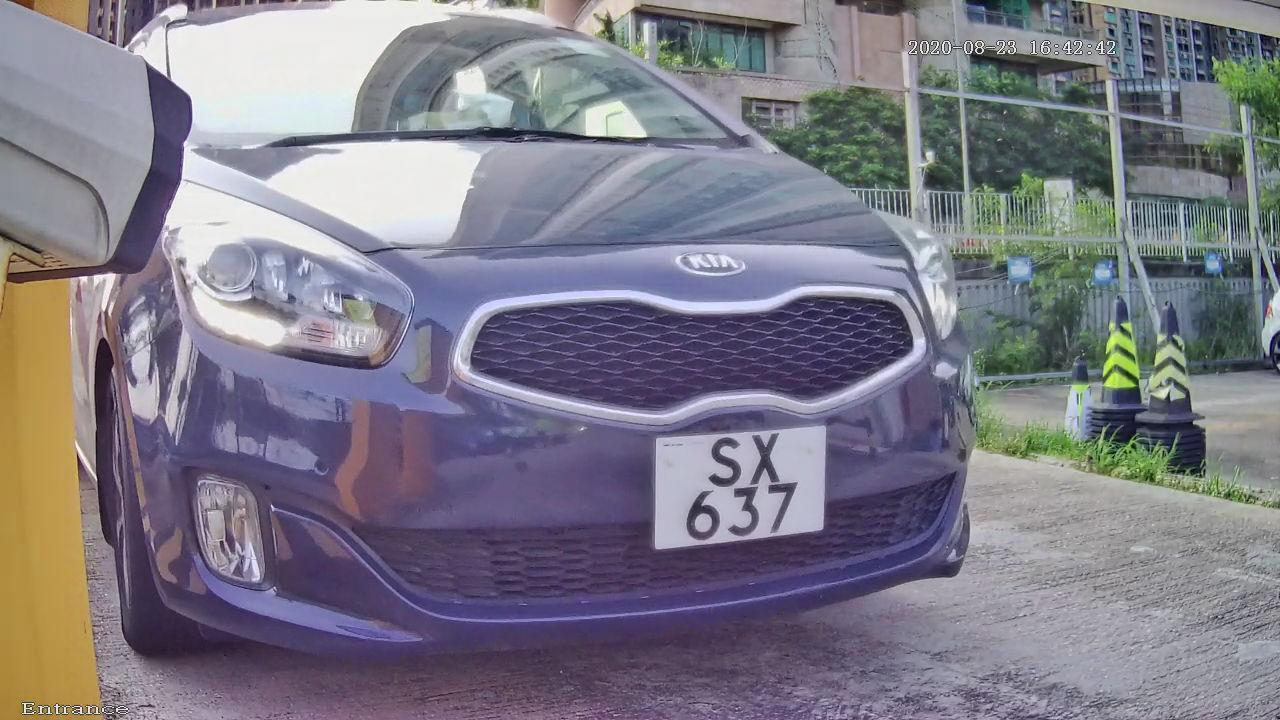Car: (52, 7, 1081, 704)
License Plate: (635, 402, 841, 560)
